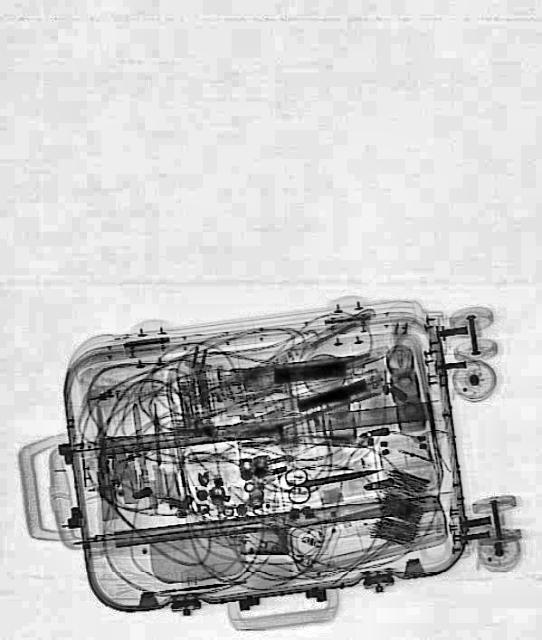Scissors: (284, 451, 388, 505)
